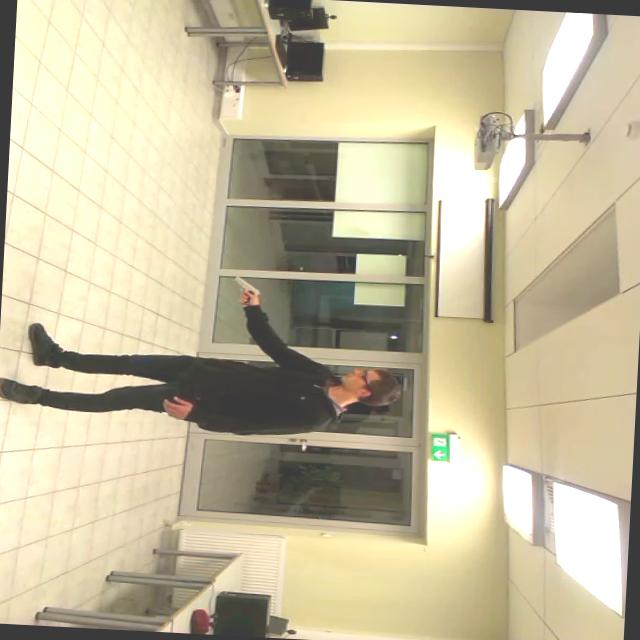handgun: (219, 274, 265, 308)
